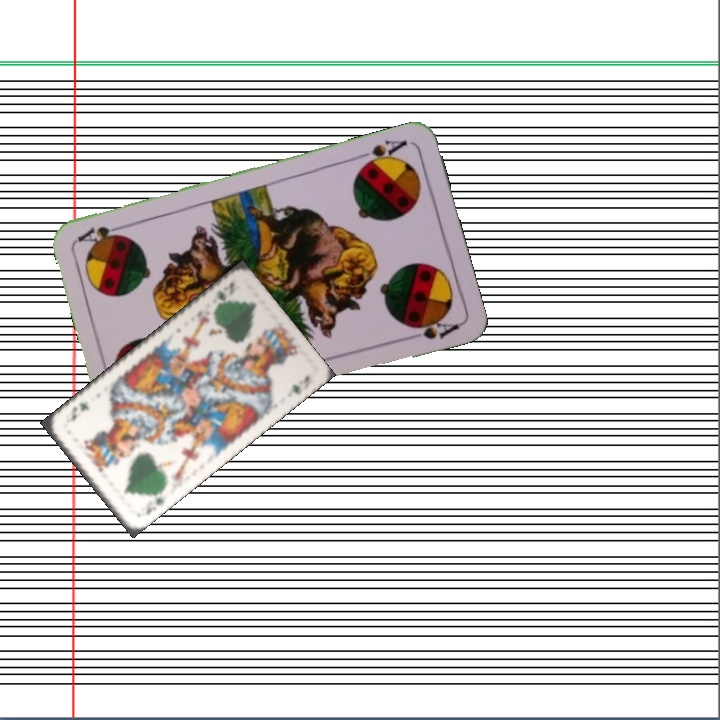GK: (138, 486, 170, 519), (210, 278, 237, 311)
SA: (353, 135, 410, 171)
